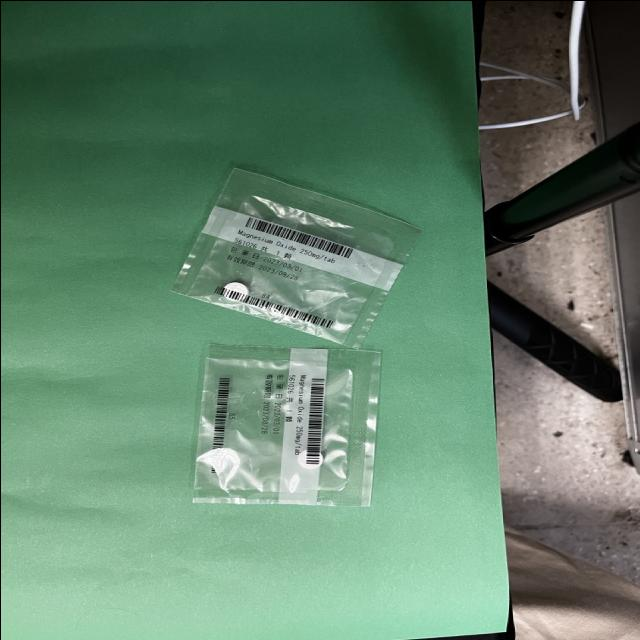Other Objects: (172, 167, 420, 347), (193, 345, 379, 504)
